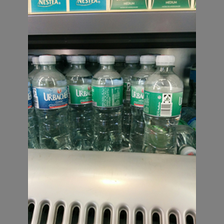water: (142, 54, 185, 154), (31, 55, 70, 149), (92, 54, 123, 150), (64, 55, 94, 150)
